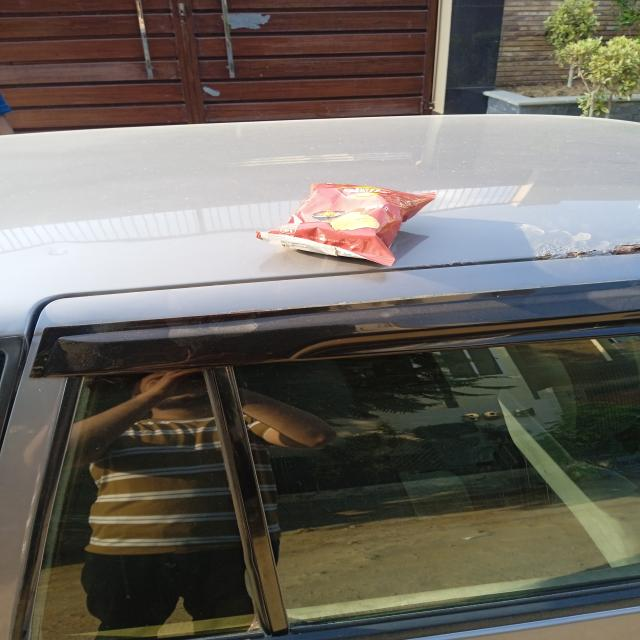Plastic: (256, 181, 436, 268)
